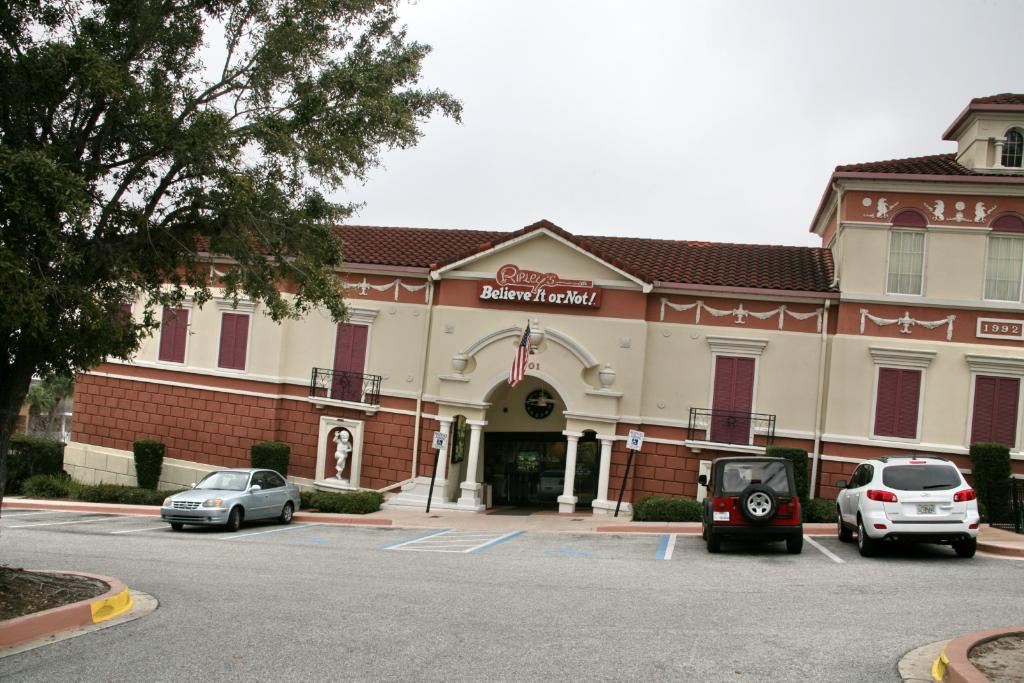Car: (833, 452, 982, 557), (701, 456, 807, 551), (157, 468, 304, 530)
